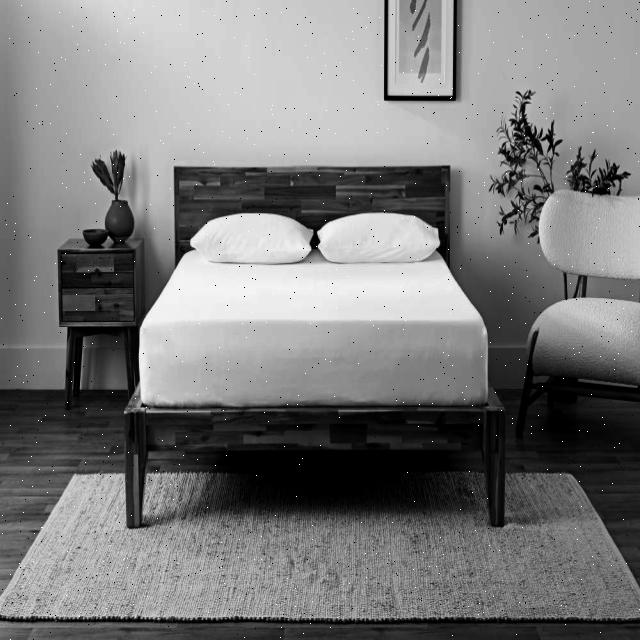bed: (134, 205, 491, 415)
